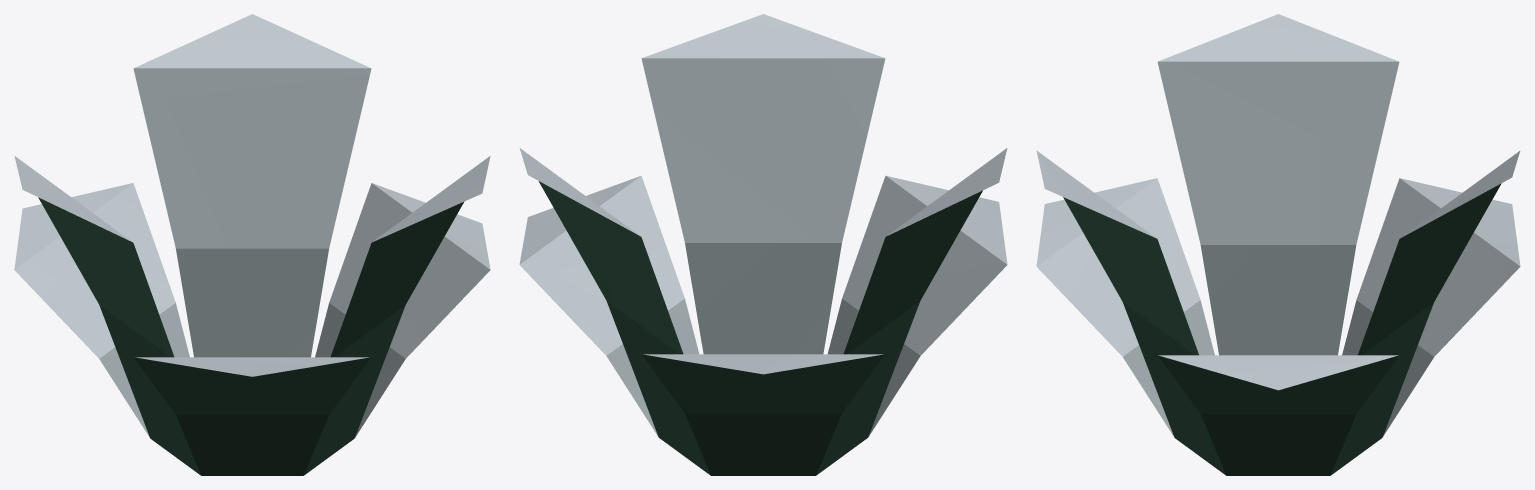
Rendered from plant_bushLarge.glb.
3 views of the same model, side by side, from view 1: azimuth 30°, elevation 25°; view 2: azimuth 150°, elevation 25°; view 3: azimuth 270°, elevation 25° (orthographic). The views are drawn at different scales.
Parts seen in each view (by area): view 1: plant_bushLarge; view 2: plant_bushLarge; view 3: plant_bushLarge.
Part boxes in pixels (x1,y1,x2,y2): plant_bushLarge: (14,14,490,475); plant_bushLarge: (519,14,1007,475); plant_bushLarge: (1036,14,1520,475).
Bounding box in the file's own units: 0.3743 × 0.2429 × 0.3357.
